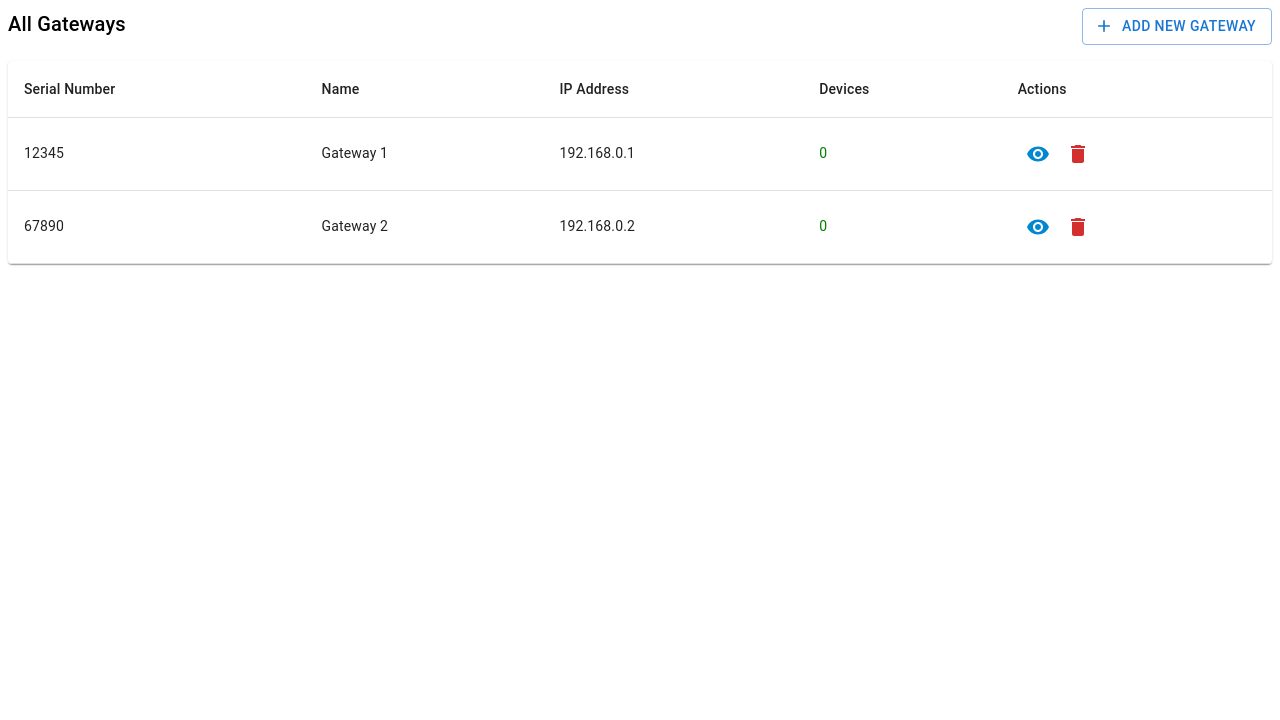
Test: GatewayList › should add a new gateway to the table when the Add button is clicked in the GatewayDialog
The image size is (1280, 720).
Click the button with test id "add-gateway" at (1177, 26), box [1082,8,1272,44]
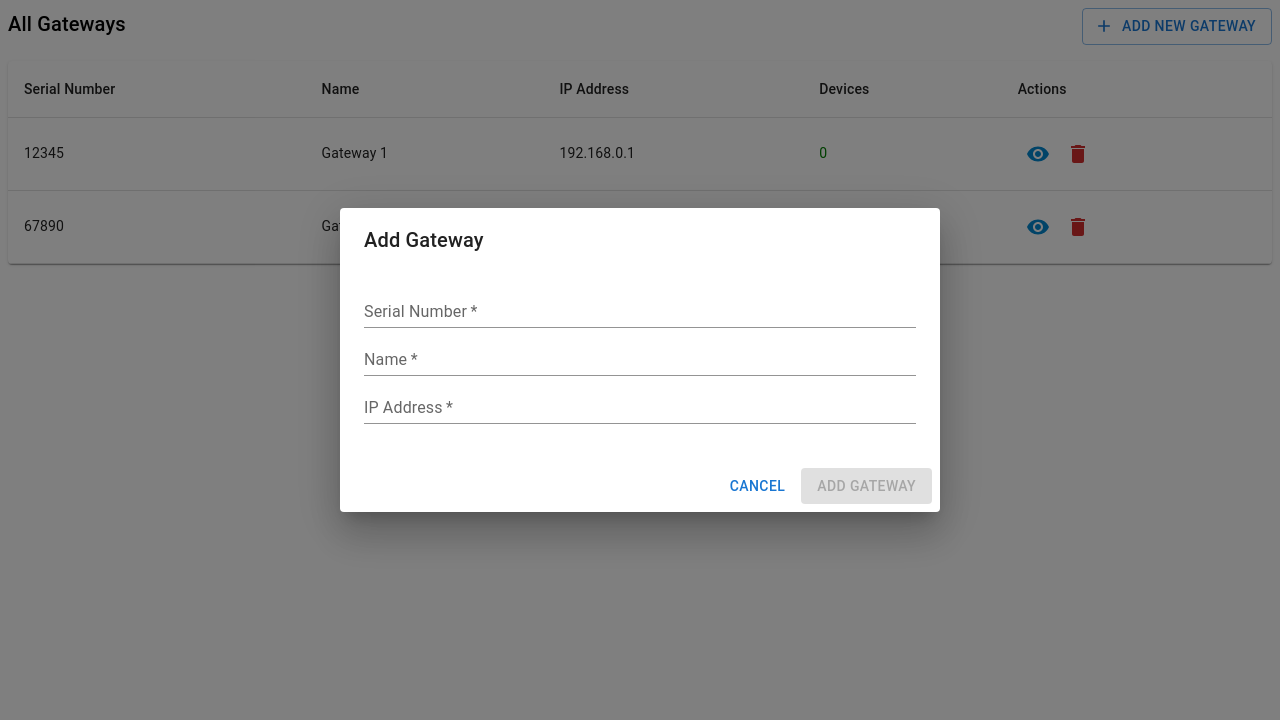
Type "54321" into the field labelled "Serial Number *" at (640, 312), box [364,296,916,328]
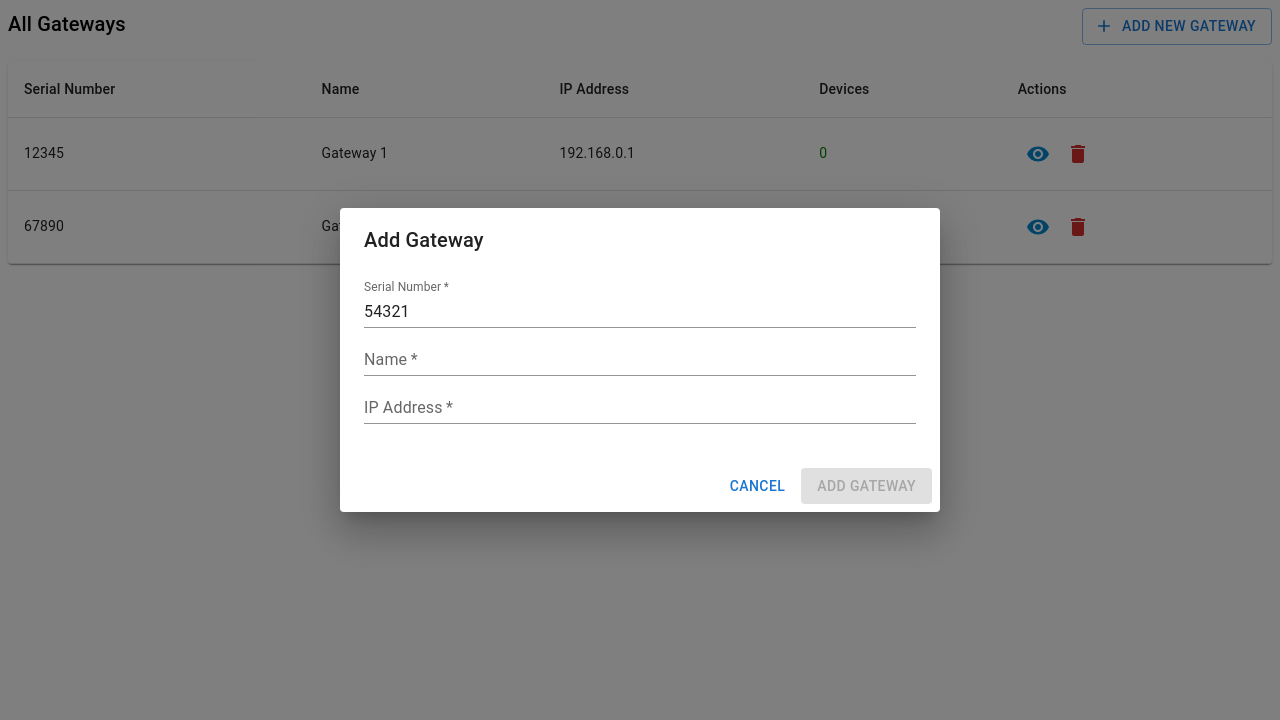
Type "Gateway 3" into the field labelled "Name *" at (640, 360), box [364,344,916,376]
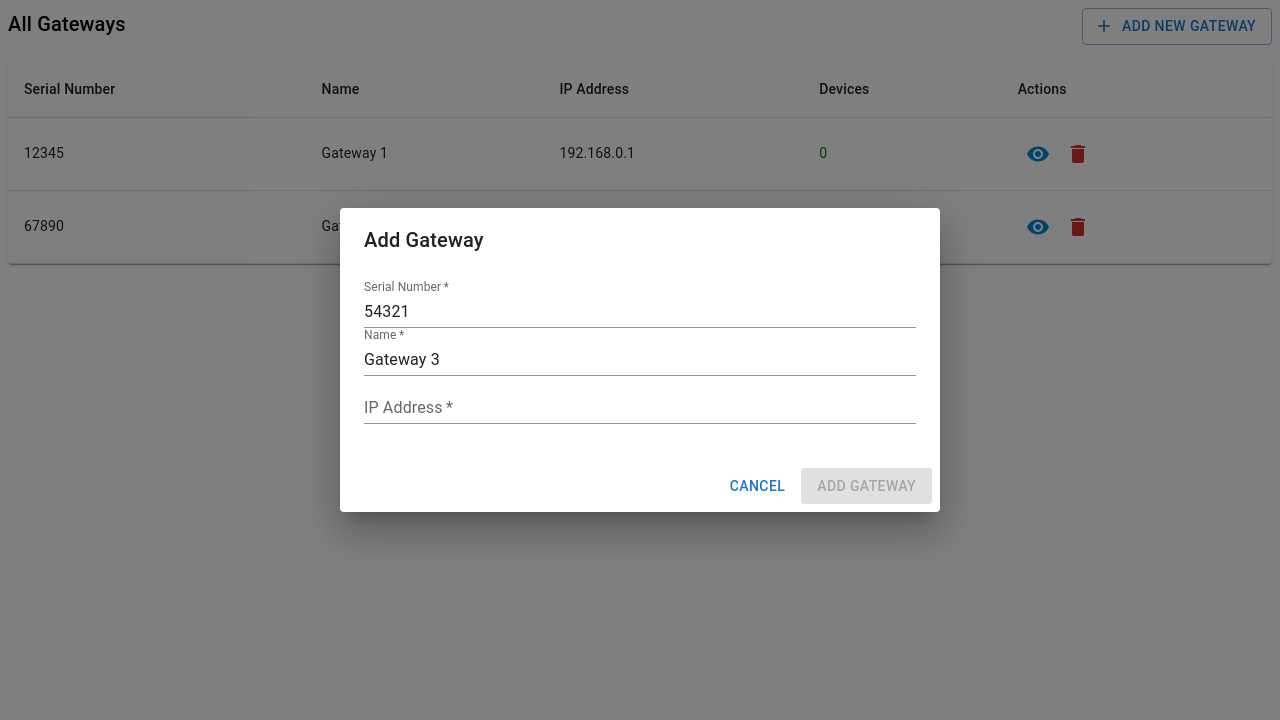
Type "192.168.0.3" into the field labelled "IP Address *" at (640, 408), box [364,392,916,424]
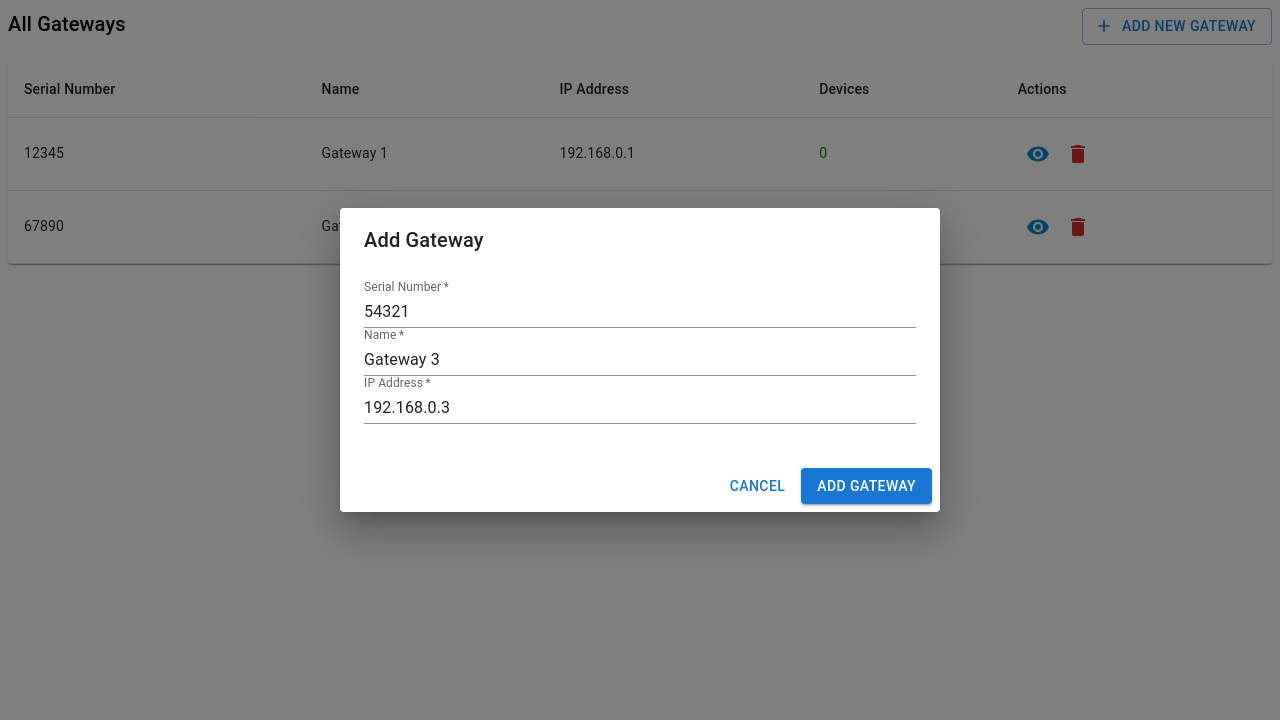
Click the button with test id "save-gateway" at (867, 486), box [801,468,932,504]
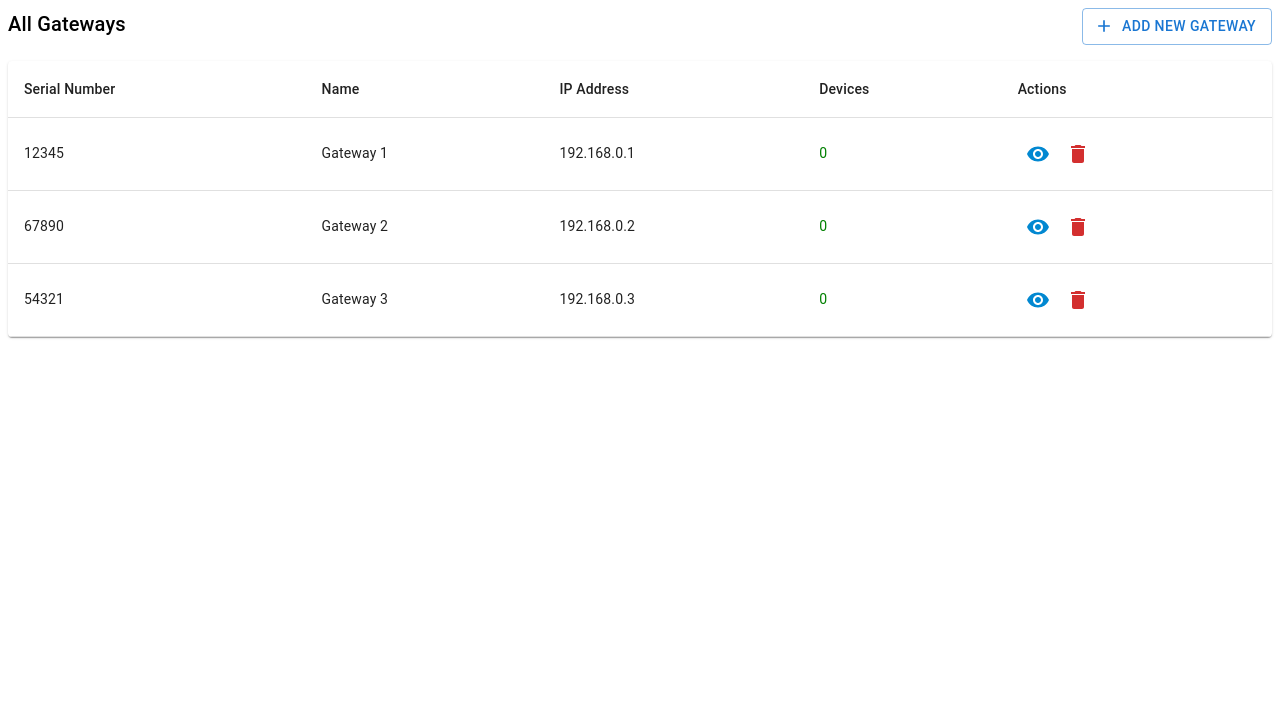
Result: the text "12345" is shown 3 times at [8,117,306,190]; [8,190,306,263]; [8,263,306,336]
